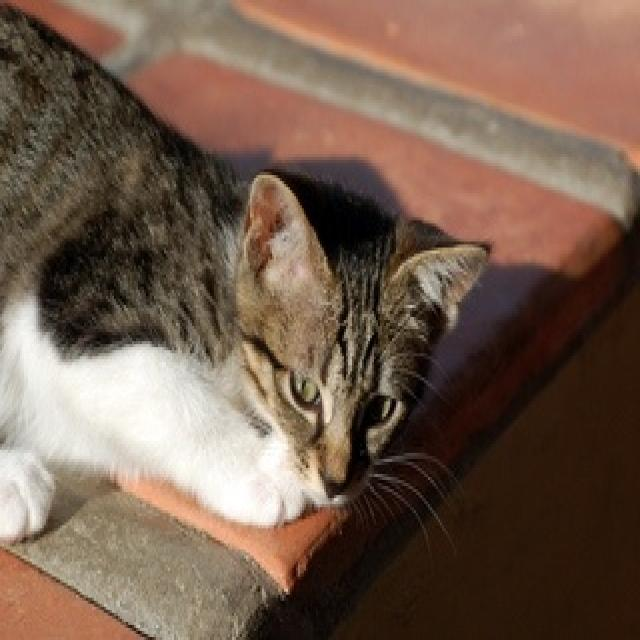cat: (2, 0, 492, 565)
